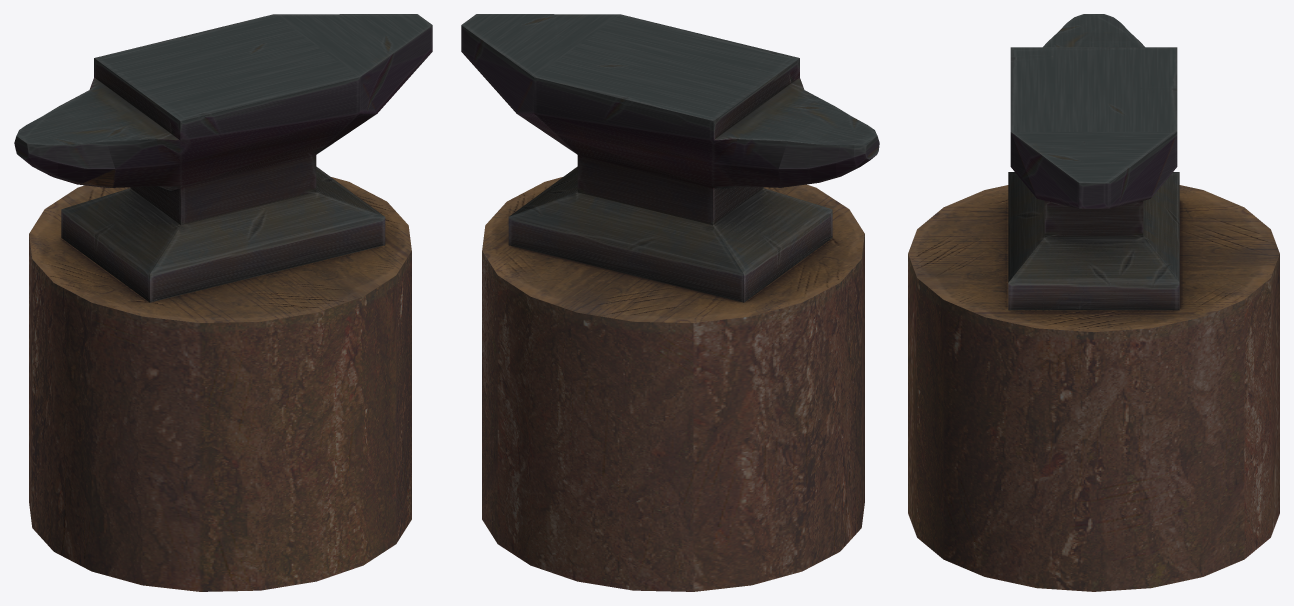
Rendered from Yunque_low.fbx.
3 renders of one model, left to right at view 1: azimuth 30°, elevation 25°; view 2: azimuth 150°, elevation 25°; view 3: azimuth 270°, elevation 25°, orthographic. The views are drawn at different scales.
Visible parts, largest first — view 1: pCylinder1, pCube1; view 2: pCylinder1, pCube1; view 3: pCylinder1, pCube1.
Part boxes in pixels (bbox=[...]): pCylinder1: bbox=[29, 177, 411, 591]; pCube1: bbox=[14, 14, 432, 302]; pCylinder1: bbox=[482, 177, 864, 591]; pCube1: bbox=[461, 14, 879, 302]; pCylinder1: bbox=[908, 185, 1279, 591]; pCube1: bbox=[1008, 14, 1179, 310].
Size of the model in its own units: 8.12 by 8.47 by 6.69.
